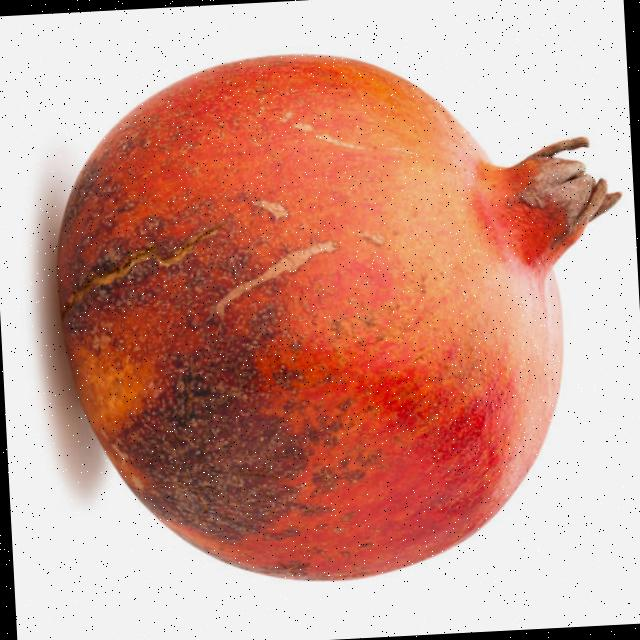overripe: (39, 32, 640, 604)
